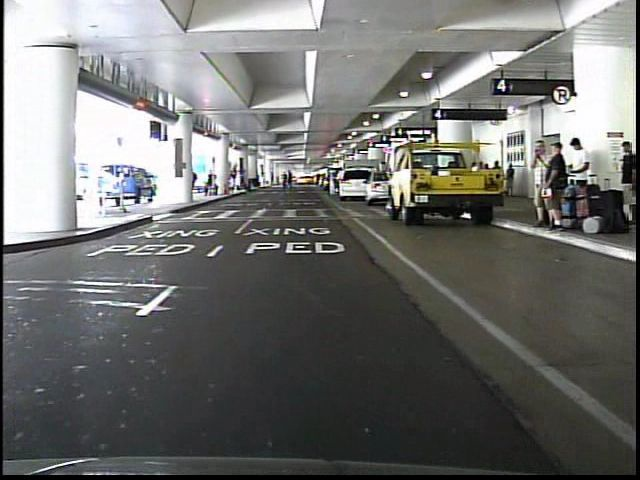person: (525, 139, 549, 226)
